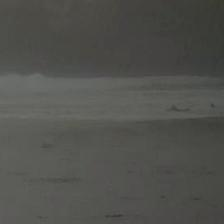surfer: (166, 104, 192, 114), (209, 102, 219, 109)
